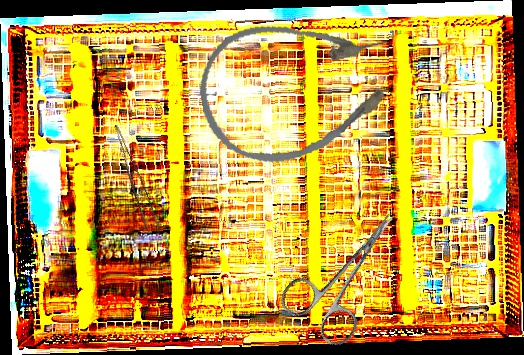Cannula: (190, 3, 406, 175)
Iris Scissors: (275, 191, 426, 353)
Tissue Forceps: (102, 124, 164, 234)
